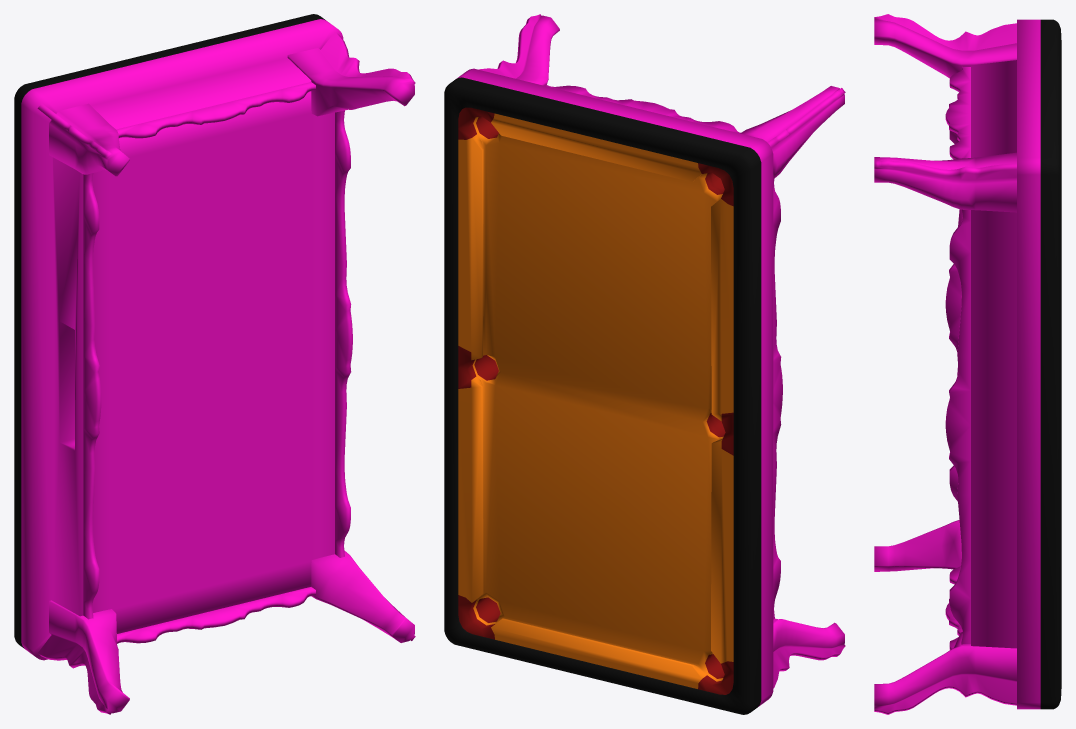
Rendered from Bilard mesh.FBX.
The picture shows the model from 3 angles, left to right: view 1: azimuth 30°, elevation 25°; view 2: azimuth 150°, elevation 25°; view 3: azimuth 270°, elevation 25°; orthographic projection. The views are drawn at different scales.
Parts seen in each view (by area): view 1: Bilard mesh; view 2: Bilard mesh; view 3: Bilard mesh.
Boxes of the visible parts, left/top/right/bottom form: Bilard mesh: left=14, top=14, right=415, bottom=714; Bilard mesh: left=444, top=14, right=845, bottom=714; Bilard mesh: left=874, top=14, right=1061, bottom=714.
Bounding box in the file's own units: 1.52 × 0.8018 × 2.62.
